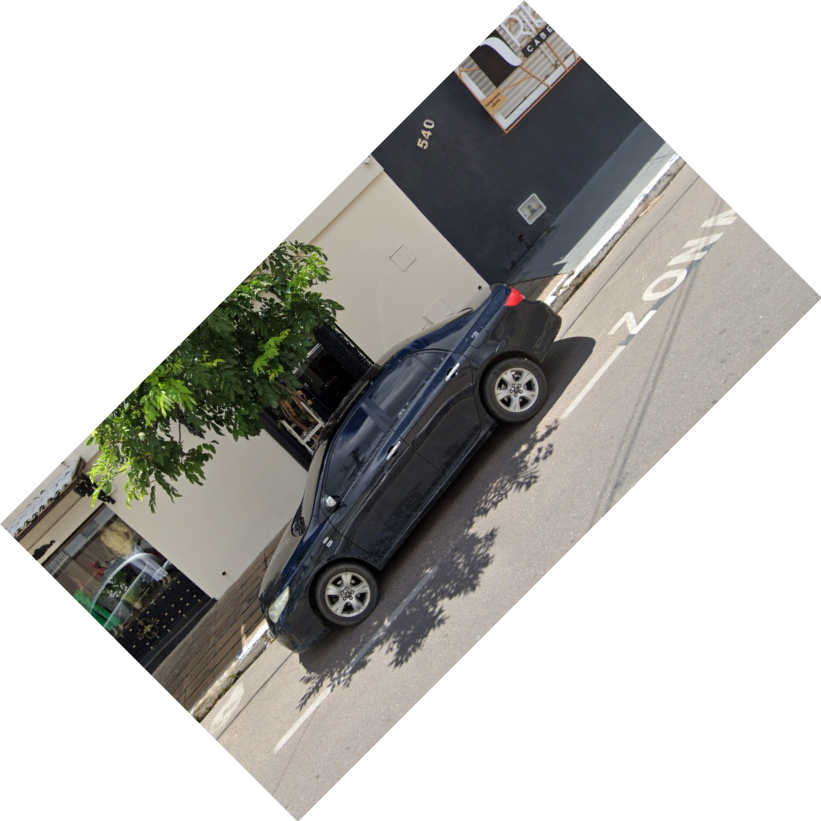car: (250, 280, 566, 662)
